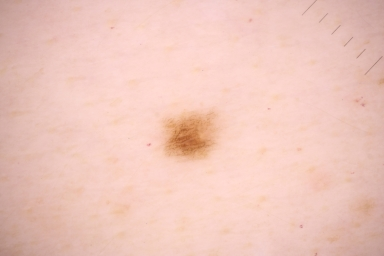melanoma: (163, 112, 214, 158)
